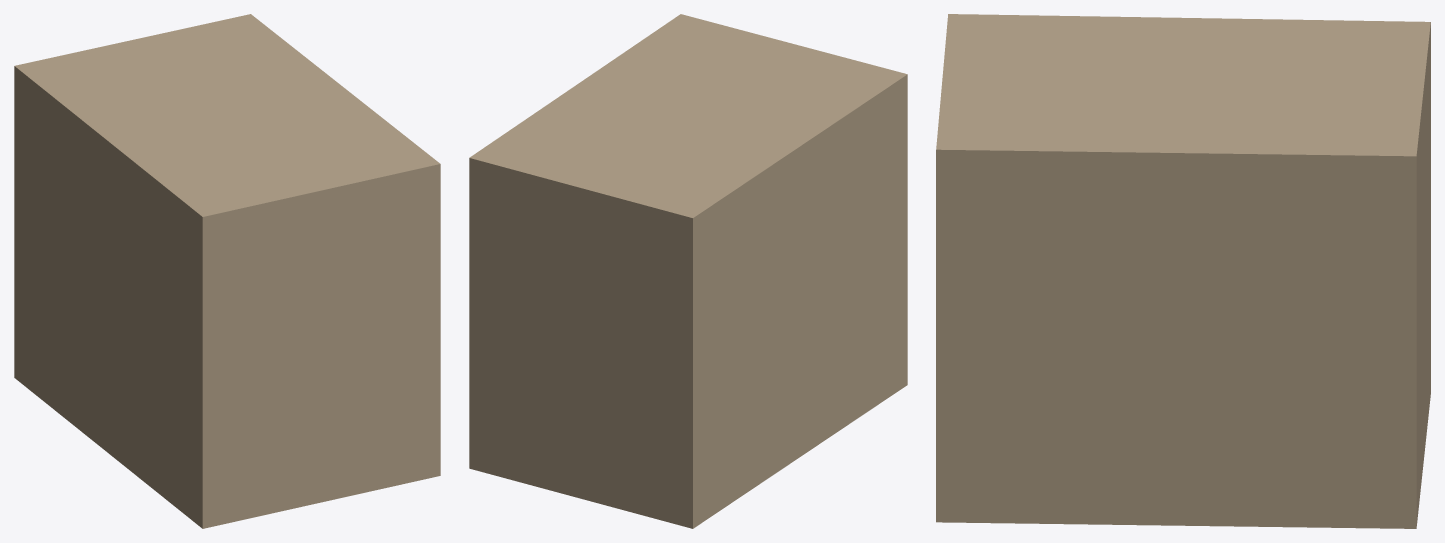
Rendered from bld_101759177.dae.
3 views of the same model, side by side, from view 1: azimuth 30°, elevation 25°; view 2: azimuth 150°, elevation 25°; view 3: azimuth 270°, elevation 25° (orthographic). The views are drawn at different scales.
Visible parts, largest first — view 1: P.D. Bateman; view 2: P.D. Bateman; view 3: P.D. Bateman.
Part boxes in pixels (x1,y1,x2,y2): P.D. Bateman: (14,14,440,528); P.D. Bateman: (469,14,907,528); P.D. Bateman: (936,14,1430,528).
Bounding box in the file's own units: 6.55 × 9.62 × 8.
